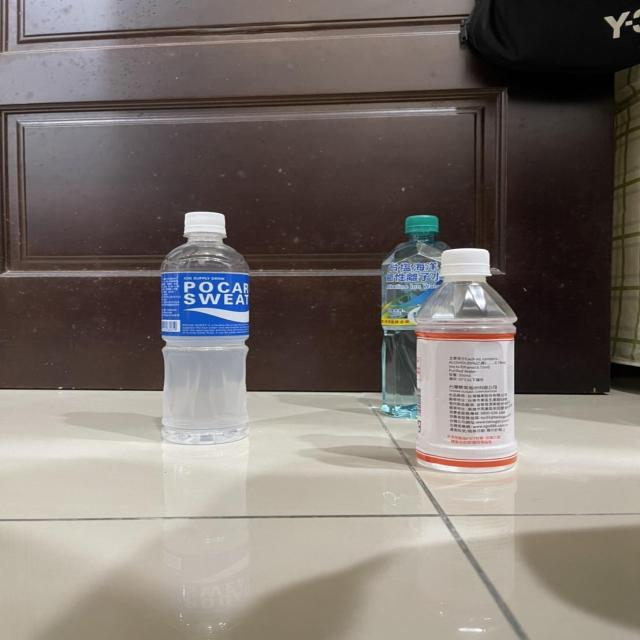bottle: (409, 245, 533, 474), (149, 205, 264, 450), (367, 210, 445, 423)
